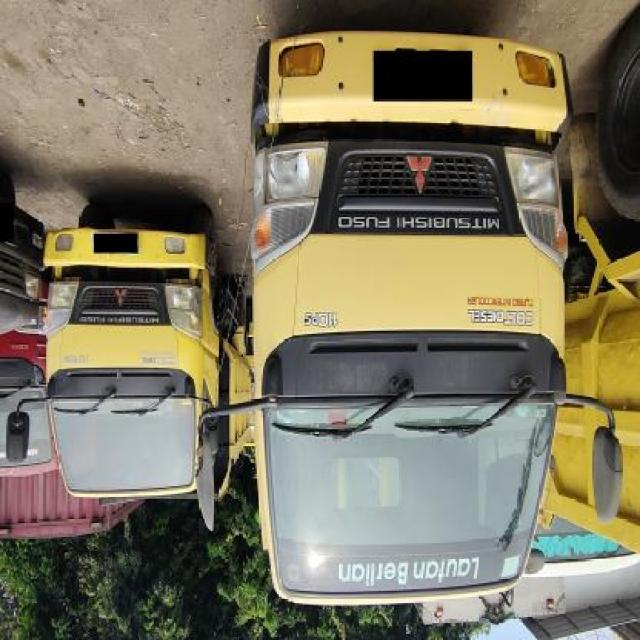truck: (192, 29, 623, 624), (10, 193, 250, 513)
